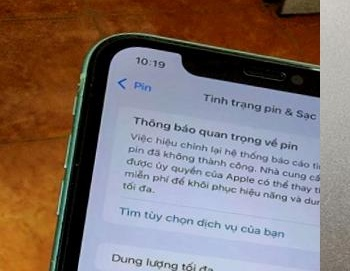scratch: (344, 245, 350, 271)
